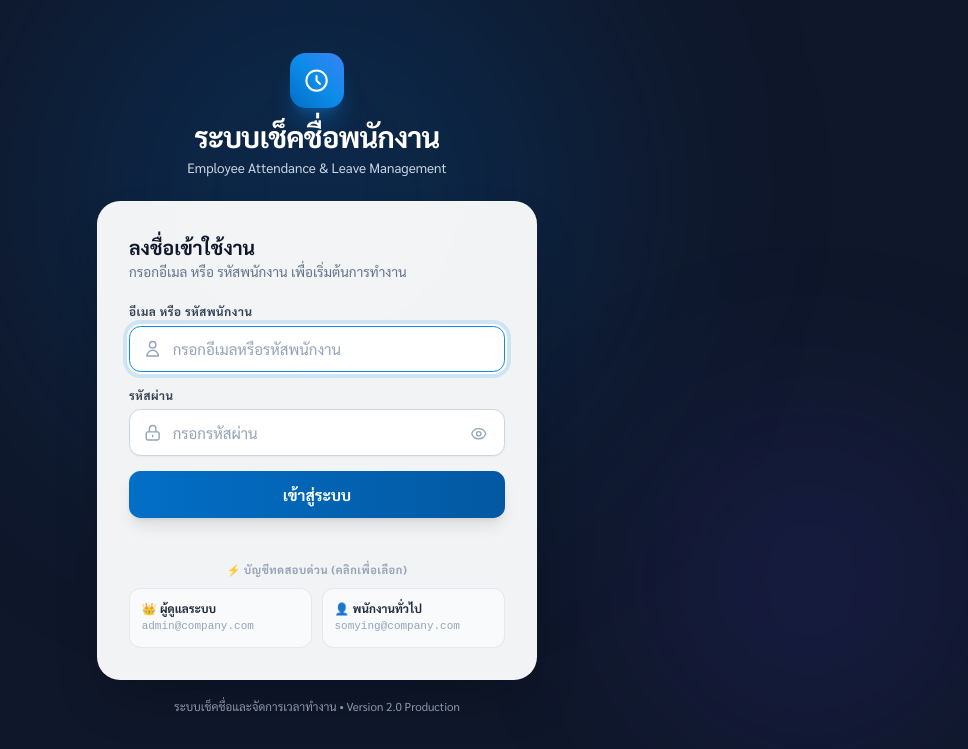
Test case: LoginPage › shows validation errors for empty fields
Click the button "เข้าสู่ระบบ".
click(317, 494)  # box [129,471,505,518]
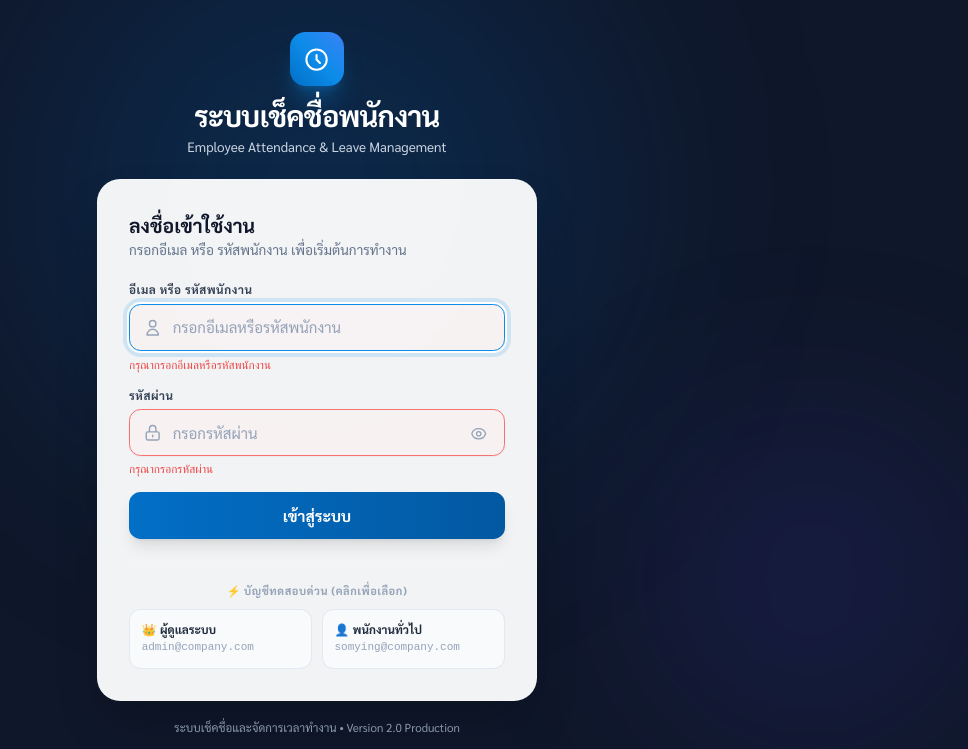
Now the text "กรุณากรอกอีเมลหรือรหัสพนักงาน" is shown, box [129,357,271,372]
Now the text "กรุณากรอกรหัสผ่าน" is shown, box [129,461,213,476]
